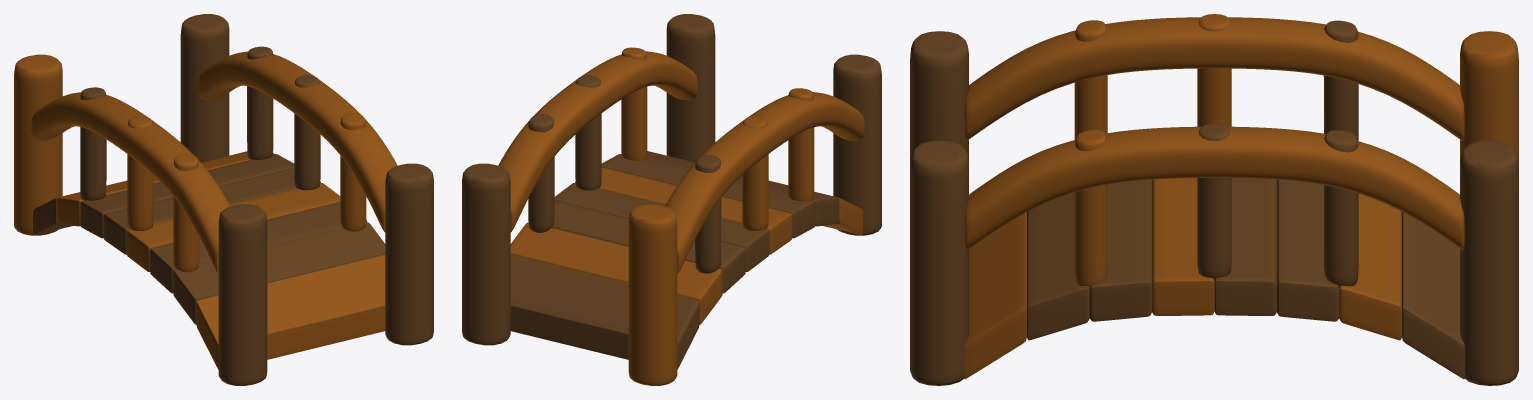
The model's file is l_mostek_1.fbx.
The picture shows the model from 3 angles, left to right: view 1: azimuth 30°, elevation 25°; view 2: azimuth 150°, elevation 25°; view 3: azimuth 270°, elevation 25°; orthographic projection. The views are drawn at different scales.
Visible parts, largest first — view 1: p_p, mostekl, P_l; view 2: p_p, mostekl, P_l; view 3: P_l, mostekl, p_p.
Part boxes in pixels (x1=…): p_p: x1=14, y1=54, x2=267, y2=385; mostekl: x1=33, y1=151, x2=385, y2=369; P_l: x1=180, y1=14, x2=433, y2=345; p_p: x1=628, y1=54, x2=881, y2=385; mostekl: x1=510, y1=151, x2=862, y2=369; P_l: x1=462, y1=14, x2=715, y2=345; P_l: x1=910, y1=123, x2=1518, y2=385; mostekl: x1=964, y1=178, x2=1464, y2=379; p_p: x1=910, y1=14, x2=1518, y2=167.
Bounding box in the file's own units: 214 × 178 × 400.
